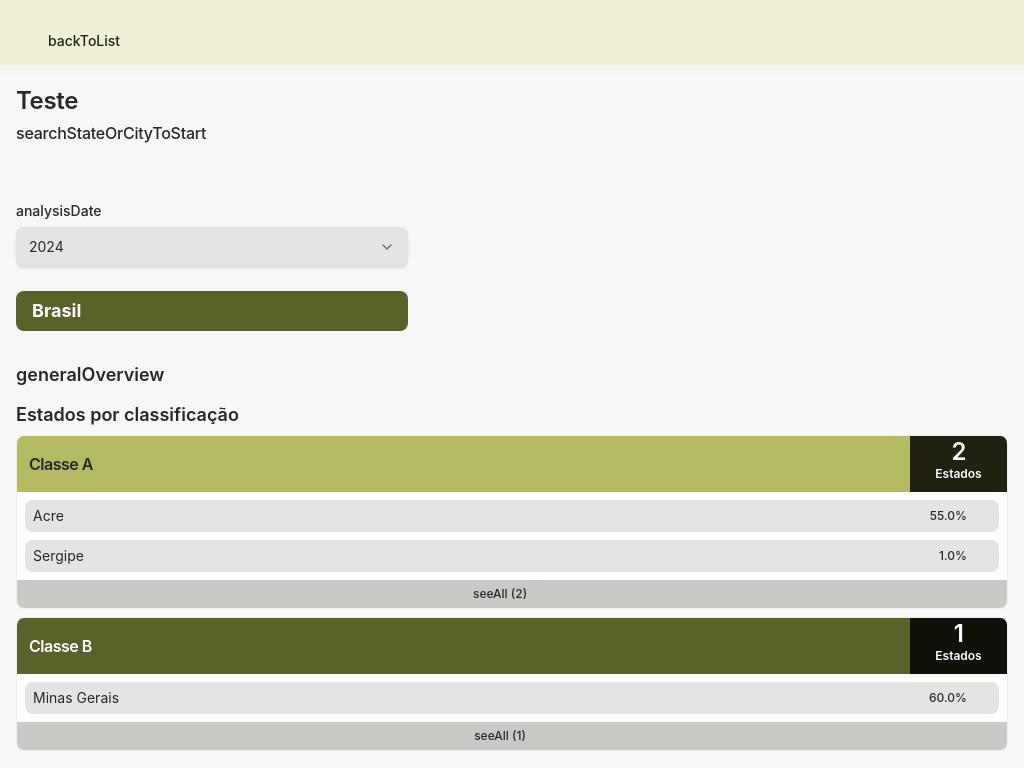
AnalysisPanel › shows top items initially, can open to show all, then close and reopen showing all
This screenshot has width=1024, height=768.
Expected: the button with aria-label "Acre: 55.0%" is shown, 25,500 -> 999,532
Expected: the text "55.0%" is shown, 930,506 -> 967,526
initial toggle is a "Mostrar" action (accessible name)
Click the button with aria-label "Mostrar Classe A": x=512, y=594 17,580 -> 1007,608
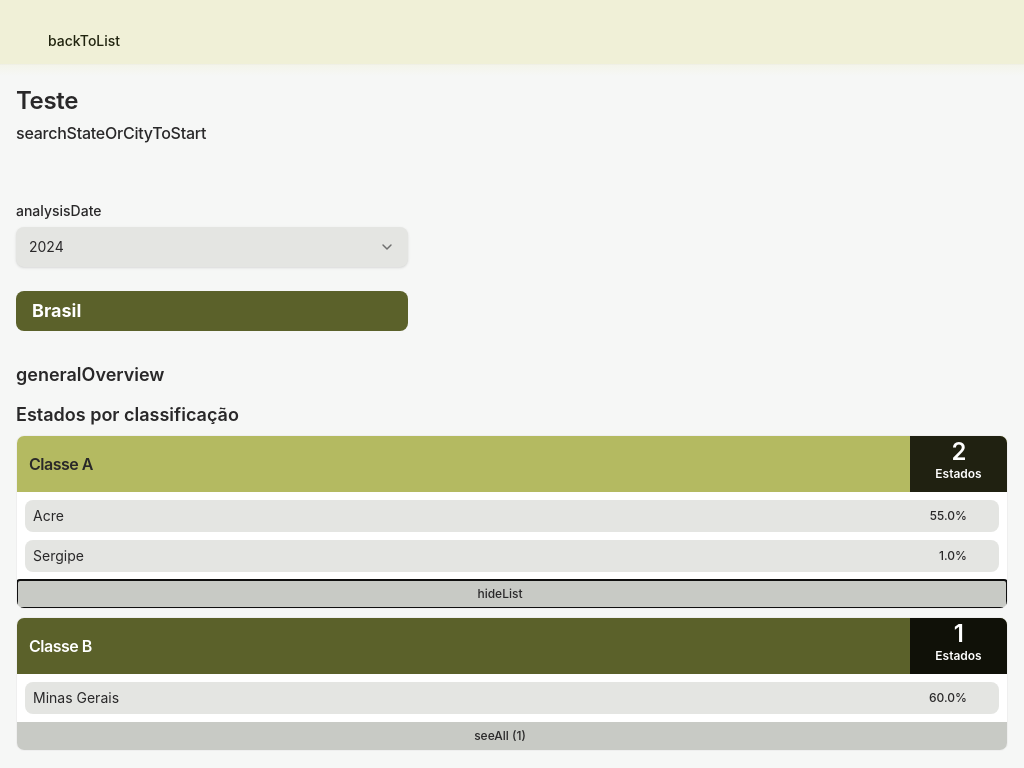
Expected: the button with aria-label "Acre: 55.0%" is shown, 25,500 -> 999,532
Expected: the button with aria-label "Ocultar Classe A" is shown
click close to hide entries
Click the button with aria-label "Ocultar Classe A": x=512, y=594 17,580 -> 1007,608
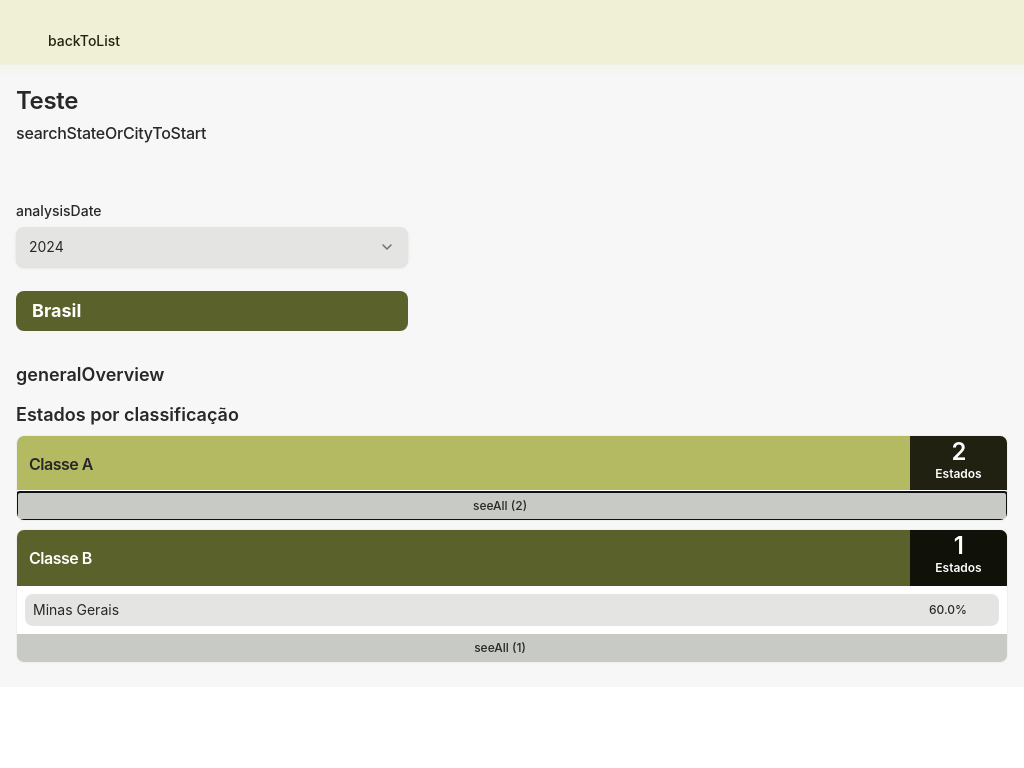
Expected: the button with aria-label "Mostrar Classe A" is shown, 17,492 -> 1007,520
